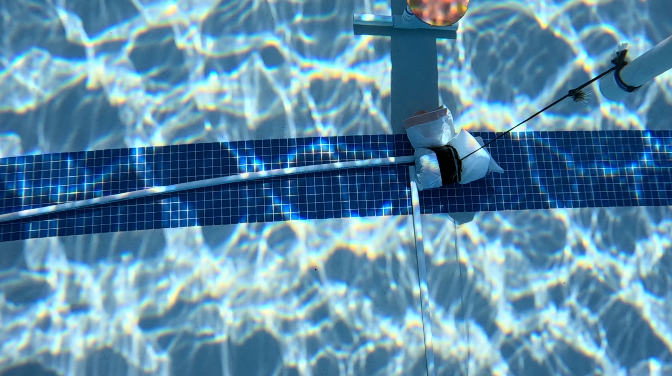pathmarker: (407, 0, 469, 26)
